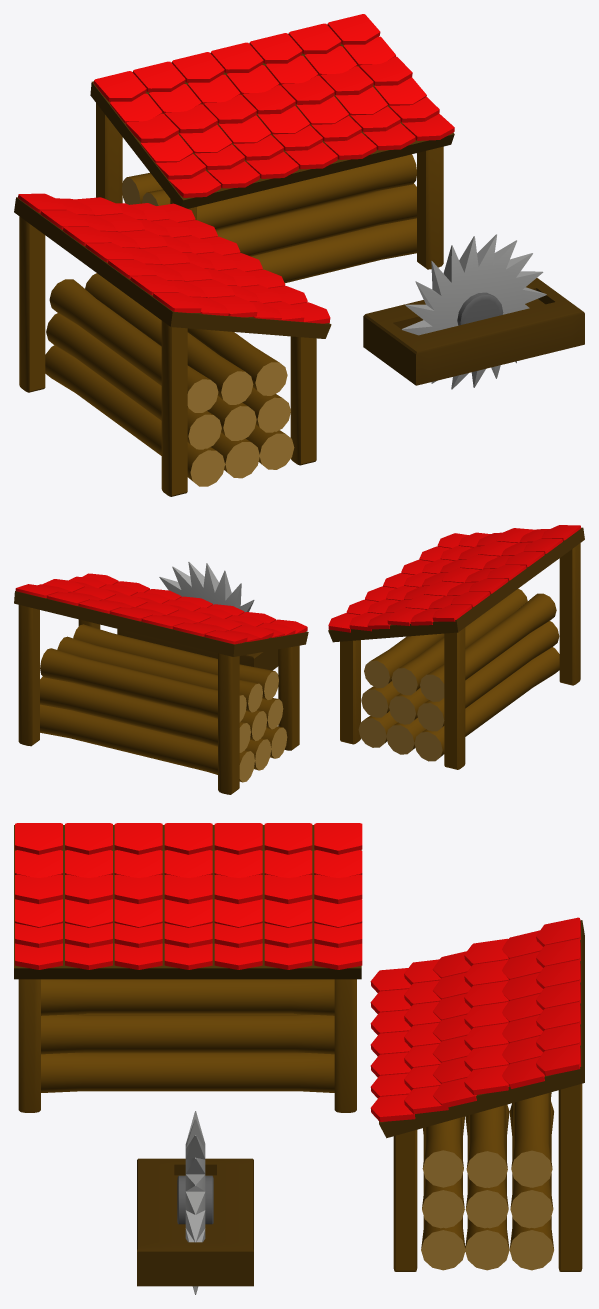
File: LumberMill_RedTeam.fbx
3 views of the same model, one above another, from view 1: azimuth 30°, elevation 25°; view 2: azimuth 150°, elevation 25°; view 3: azimuth 270°, elevation 25° (orthographic). The views are drawn at different scales.
Visible parts, largest first — view 1: LumberMill_RedTeam; view 2: LumberMill_RedTeam; view 3: LumberMill_RedTeam.
Part boxes in pixels (bbox=[...]): LumberMill_RedTeam: bbox=[14, 14, 584, 496]; LumberMill_RedTeam: bbox=[14, 525, 584, 794]; LumberMill_RedTeam: bbox=[14, 823, 584, 1294].
Bounding box in the file's own units: 2589 × 1221 × 2456.
